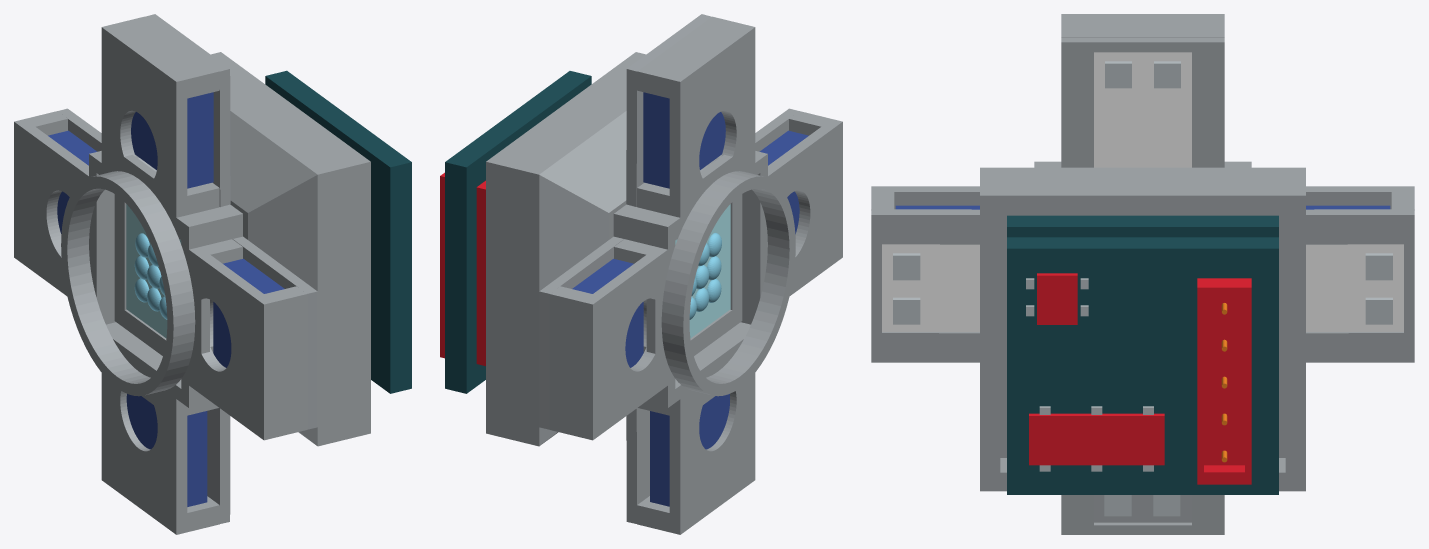
File: assembly.obj
3 views of the same model, side by side, from view 1: azimuth 30°, elevation 25°; view 2: azimuth 150°, elevation 25°; view 3: azimuth 270°, elevation 25° (orthographic). The views are drawn at different scales.
Visible parts, largest first — view 1: group_0_-1029198415, group_0_1855578, group_0_3888547, group_0_11593967, group_0_8768998; view 2: group_0_-1029198415, group_0_1855578, group_0_3888547, group_0_15277357, group_0_11593967, group_0_8768998; view 3: group_0_-1029198415, group_0_1855578, group_0_16448250, group_0_15277357, group_0_12568524, group_0_3888547.
Part boxes in pixels (x1,y1,x2,y2): group_0_-1029198415: (14, 14, 370, 534); group_0_1855578: (265, 70, 411, 393); group_0_3888547: (48, 92, 284, 506); group_0_11593967: (126, 204, 181, 338); group_0_8768998: (134, 233, 167, 319); group_0_-1029198415: (486, 14, 842, 534); group_0_1855578: (445, 71, 591, 393); group_0_3888547: (572, 92, 808, 506); group_0_15277357: (440, 172, 485, 366); group_0_11593967: (675, 204, 730, 338); group_0_8768998: (689, 232, 721, 319); group_0_-1029198415: (871, 14, 1414, 534); group_0_1855578: (1007, 215, 1278, 494); group_0_16448250: (882, 52, 1403, 331); group_0_15277357: (1029, 273, 1251, 484); group_0_12568524: (893, 61, 1392, 516); group_0_3888547: (895, 205, 1390, 209).
Size of the model in its own units: 115 by 200 by 200.
